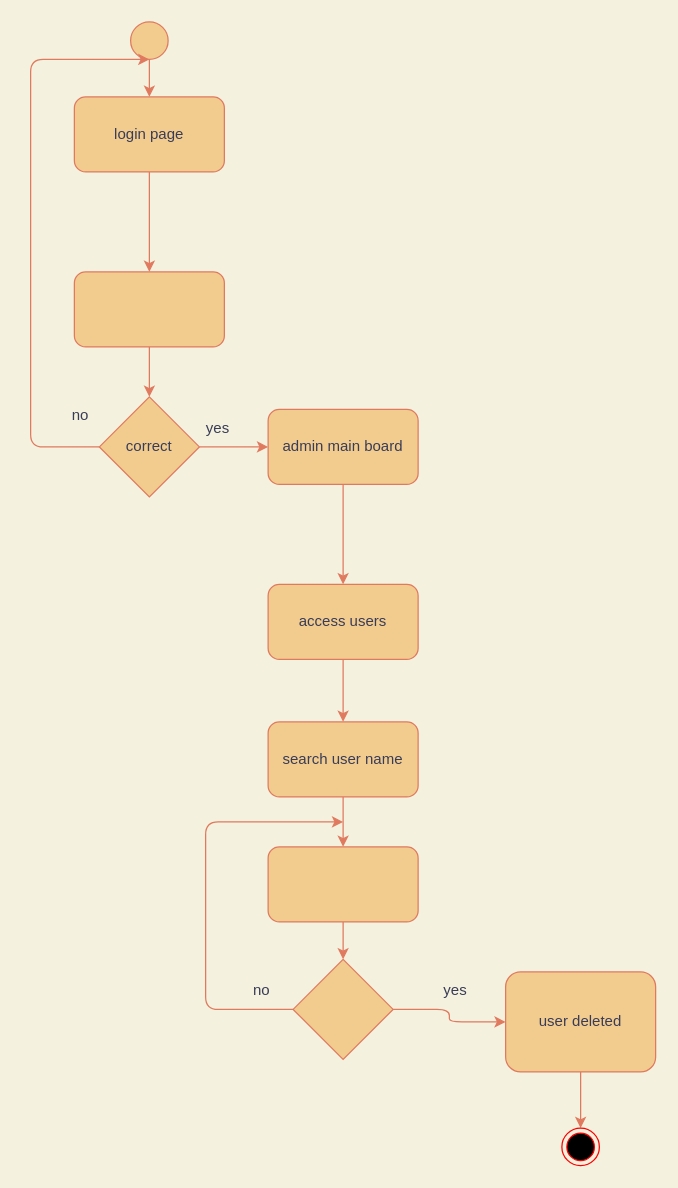
This 678x1188 diagram has some shape labels left out. Here are the shapes that lost their labels. From the top down, the centre of each, then its label:
At pixel 148 309: "enter credentials".
At pixel 342 884: "view user information".
At pixel 342 1008: "delete?".
